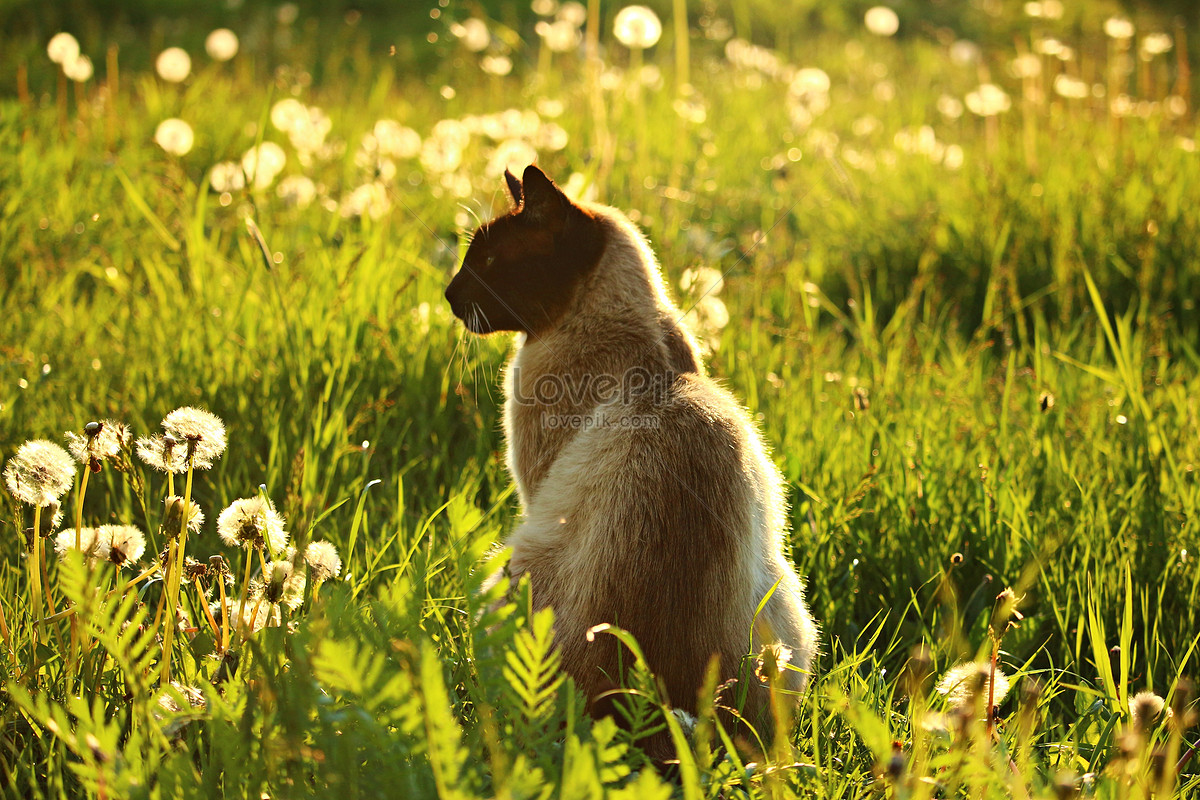cat: (447, 168, 824, 721)
